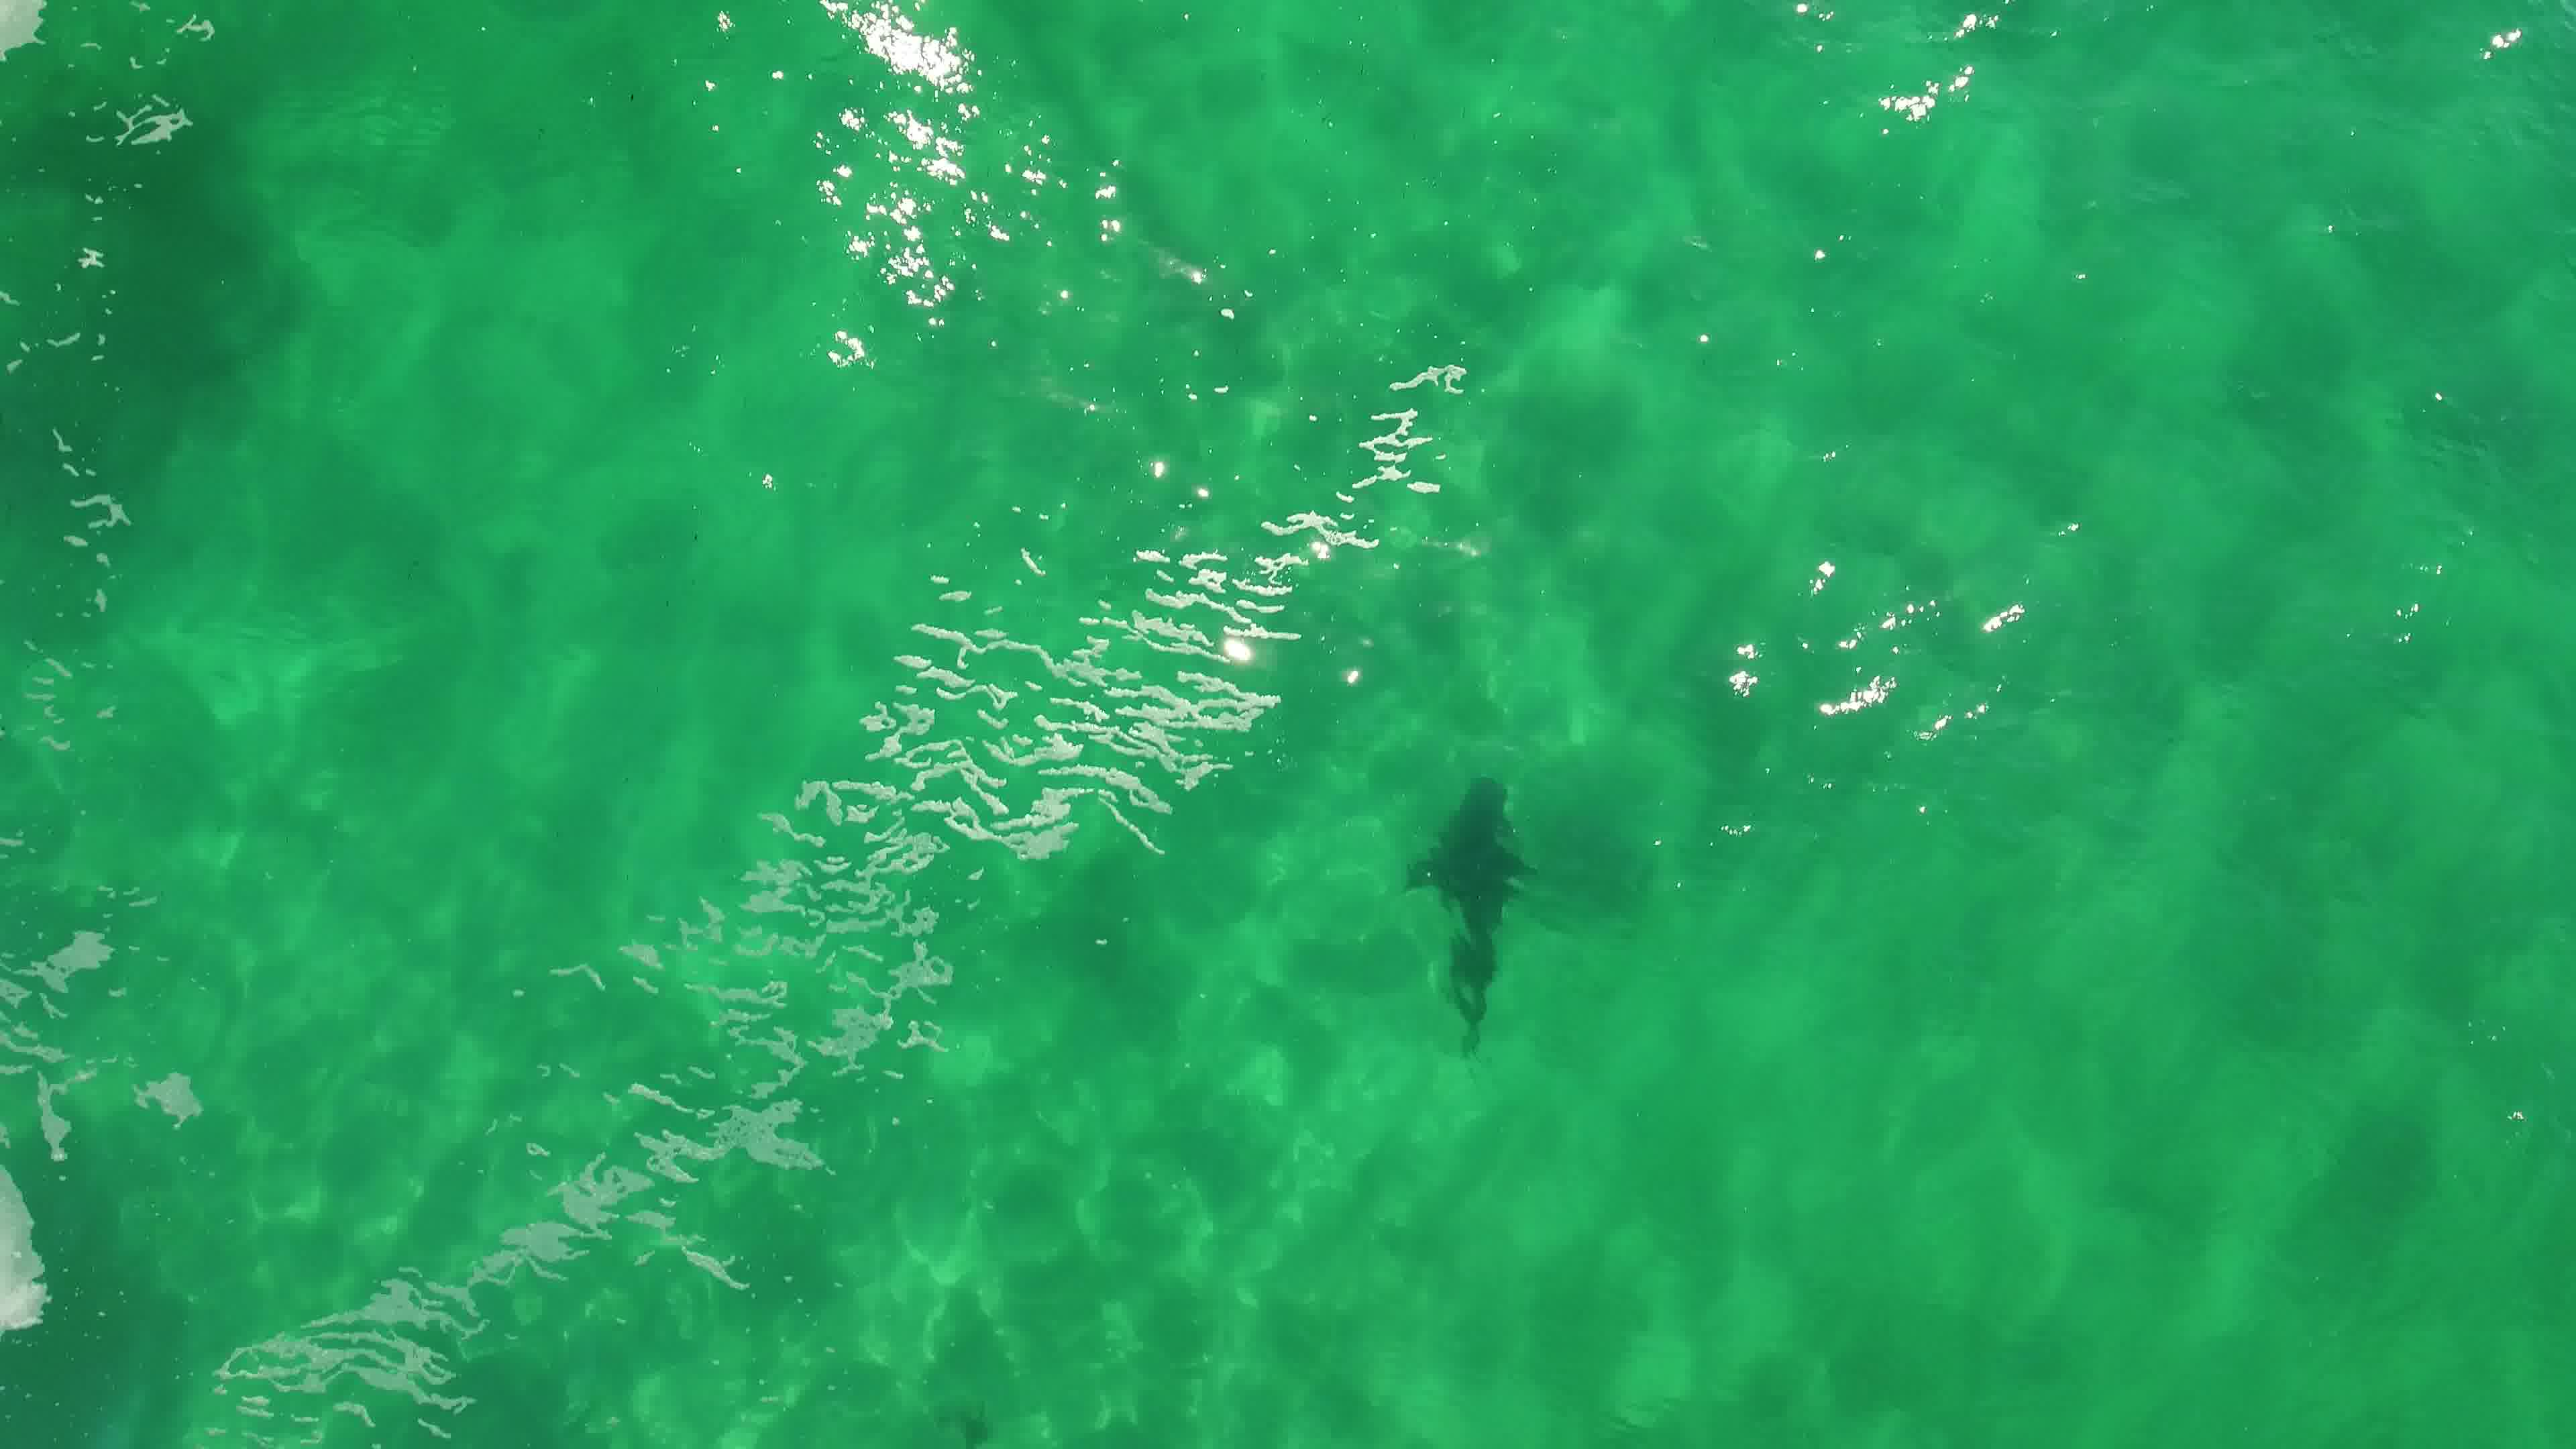shark: (1392, 768, 1548, 1065)
